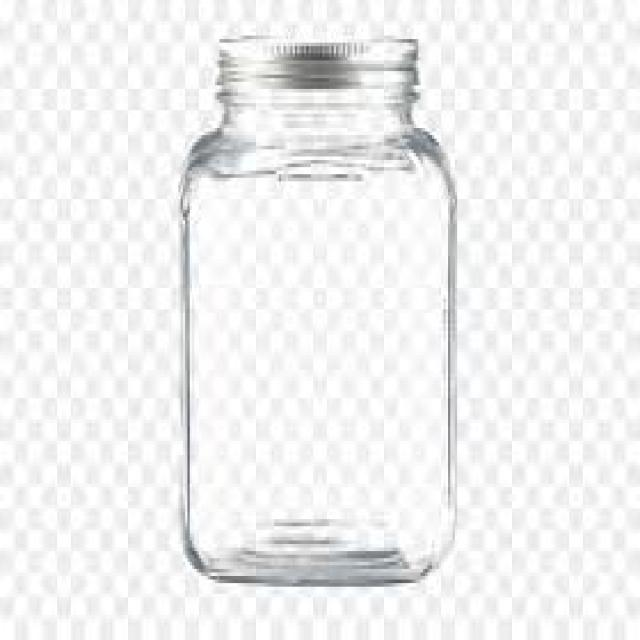Glass-Non-Biodegradable but Recyclable-: (177, 36, 454, 592)
